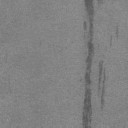red iron: (82, 0, 94, 128), (98, 60, 106, 107)
